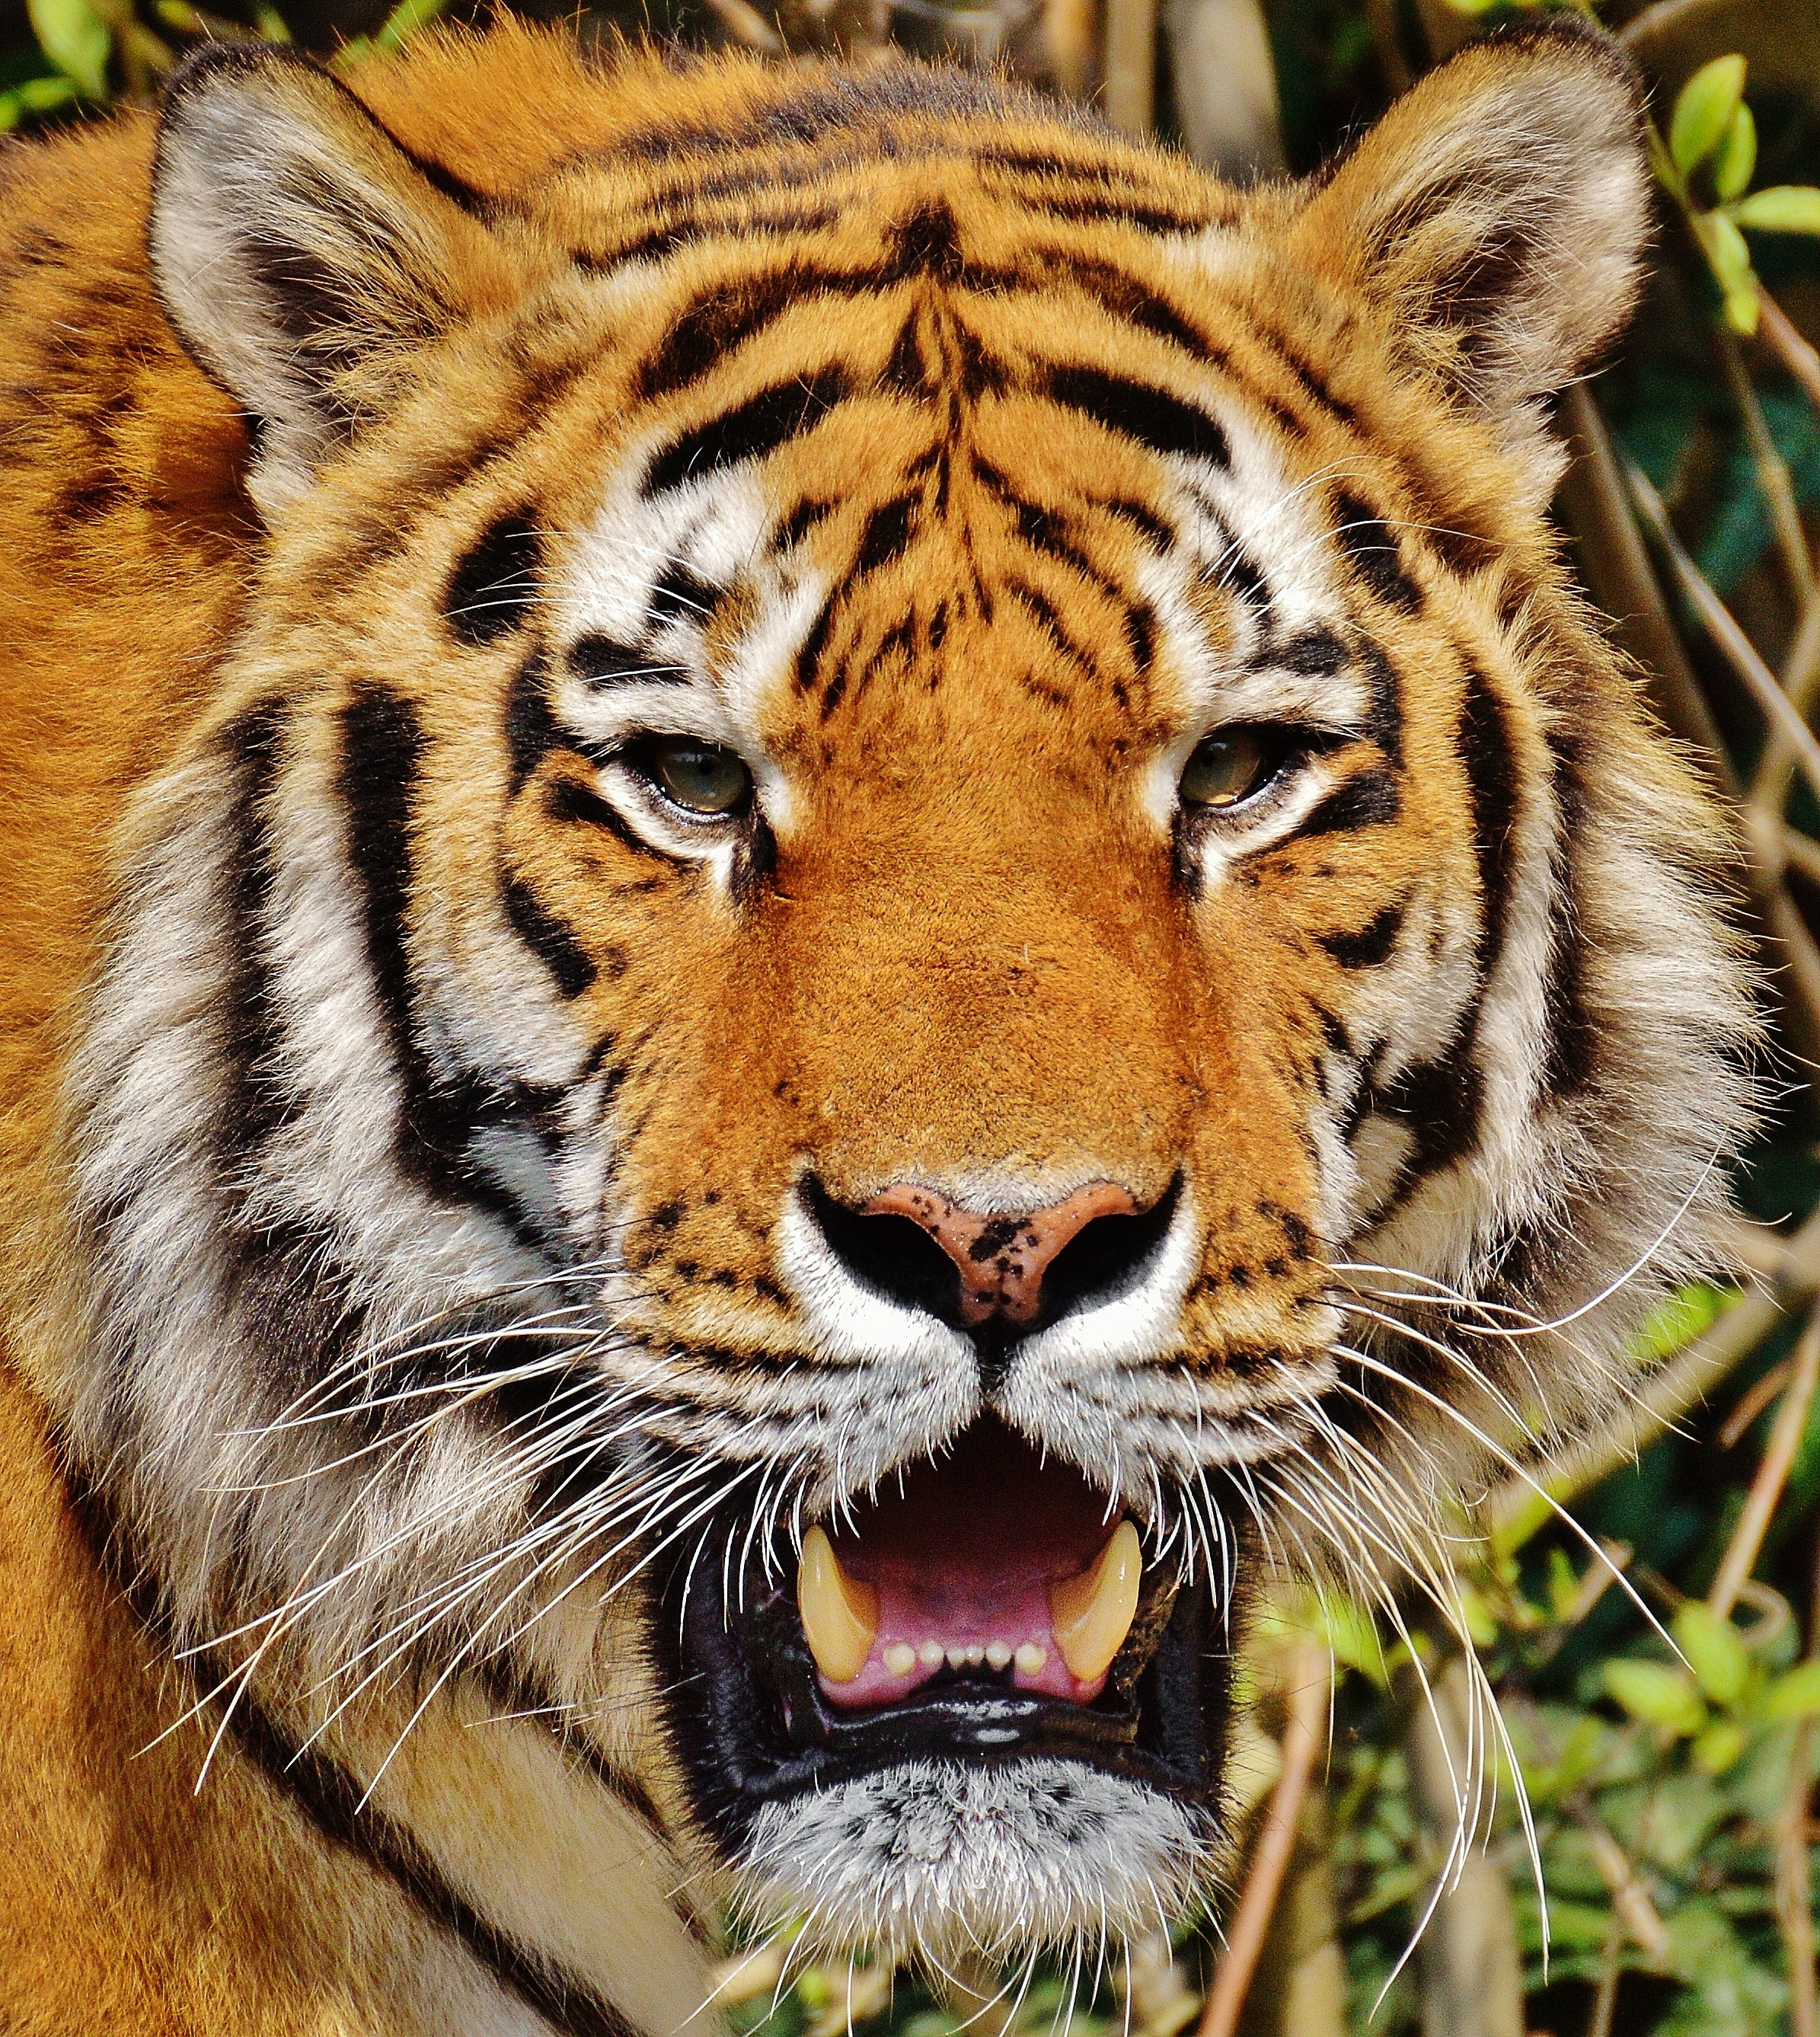tiger: (19, 7, 1781, 1979)
